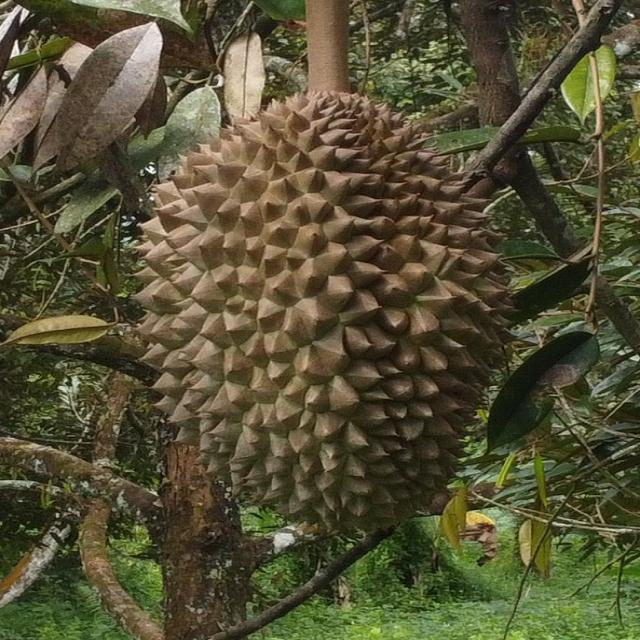mature: (135, 92, 511, 528)
